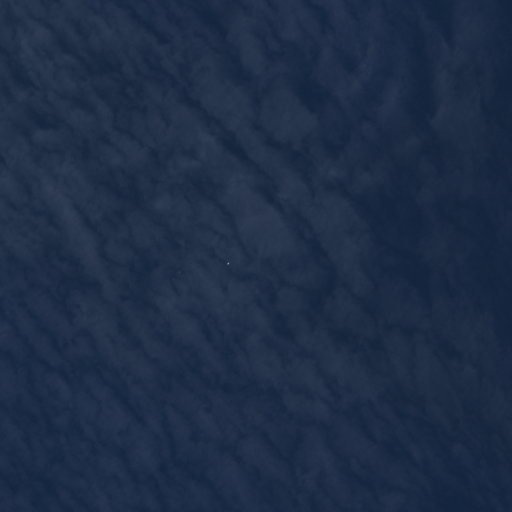Iceberg: (227, 262, 229, 264)
